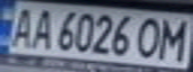0: (72, 9, 96, 54)
2: (90, 10, 118, 56)
6: (109, 12, 139, 57), (51, 8, 78, 52)
A: (3, 5, 39, 48), (27, 6, 57, 51)
M: (154, 16, 193, 62)
O: (133, 15, 166, 60)
